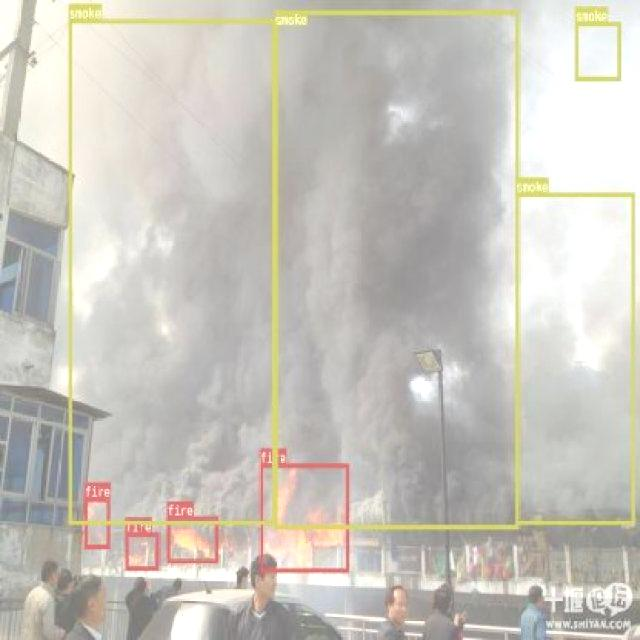fire: (260, 462, 348, 572), (166, 516, 219, 562), (125, 532, 158, 570), (85, 497, 109, 548)
smoke: (274, 9, 518, 528), (68, 18, 274, 524), (515, 192, 634, 523), (574, 21, 620, 81)
